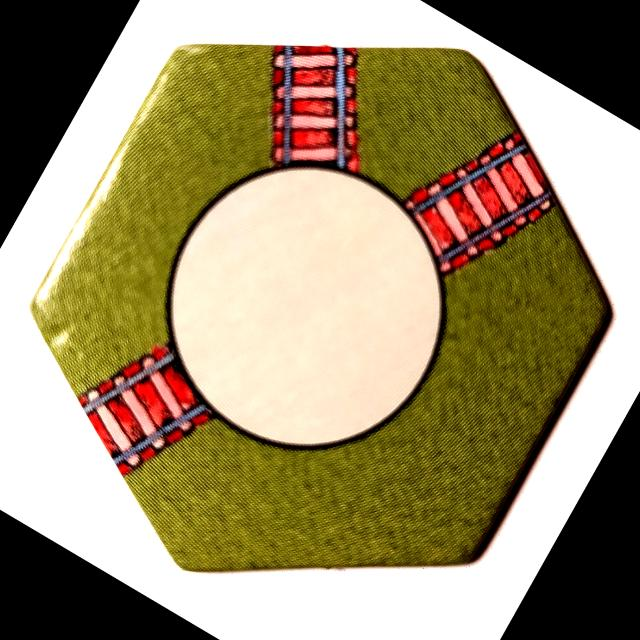14_1: (36, 44, 614, 576)
